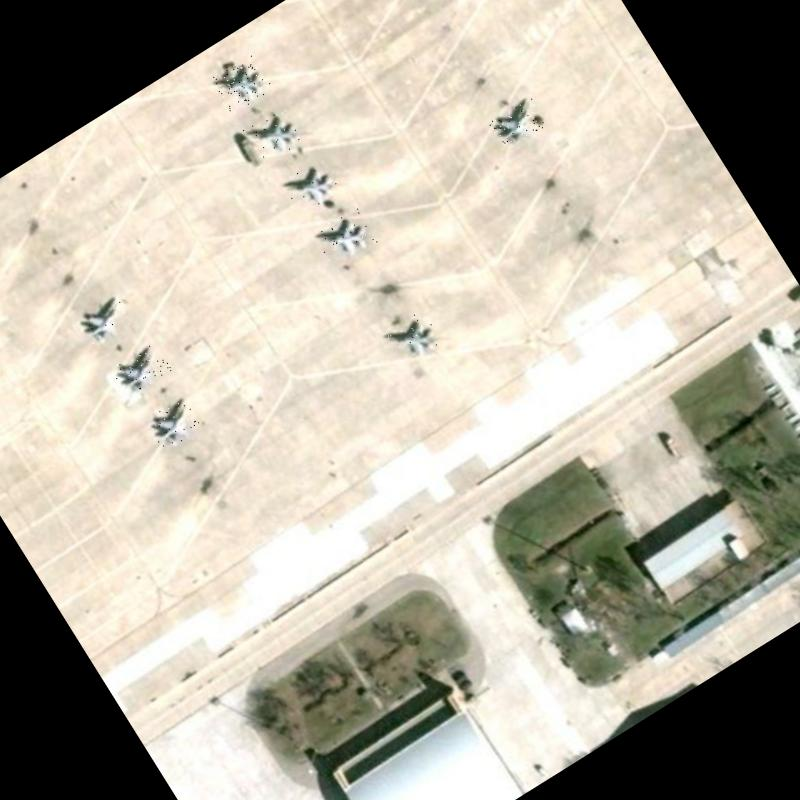A16: (312, 205, 378, 269), (208, 52, 274, 116), (380, 308, 446, 370), (243, 105, 306, 166), (77, 292, 140, 352), (280, 157, 343, 217), (110, 341, 174, 400), (145, 393, 207, 451), (488, 96, 548, 150)
